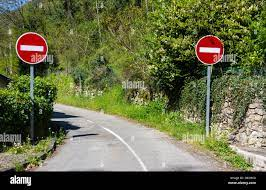No entry: (15, 32, 48, 64), (196, 35, 224, 65)
